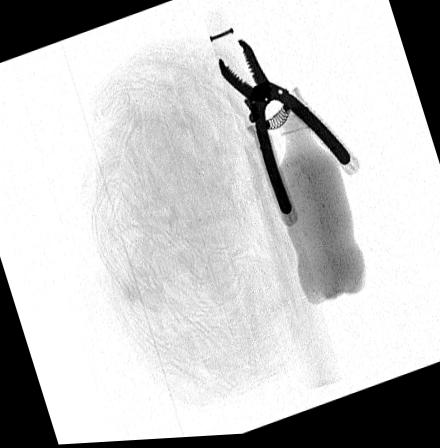Pliers: (217, 38, 352, 219)
